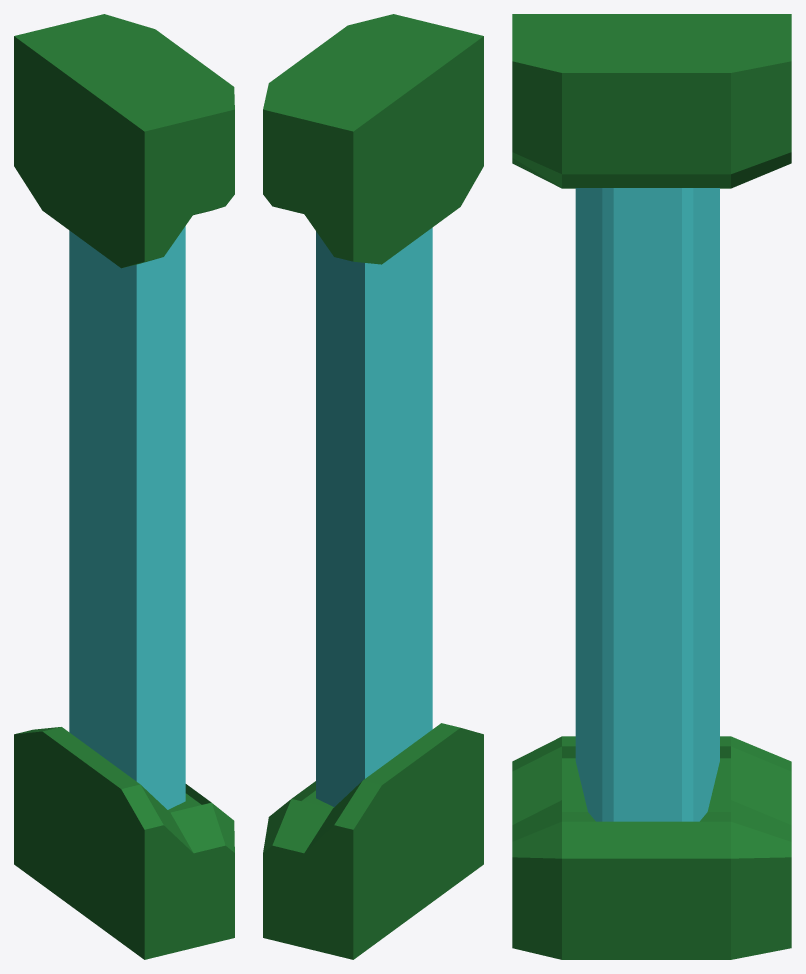
Rendered from SM_Gate_Tall.fbx.
The picture shows the model from 3 angles, left to right: view 1: azimuth 30°, elevation 25°; view 2: azimuth 150°, elevation 25°; view 3: azimuth 270°, elevation 25°; orthographic projection. The views are drawn at different scales.
Visible parts, largest first — view 1: SM_Gate_Tall:Box003, SM_Gate_Tall:Barrier_Base_Top001, SM_Gate_Tall:Barrier_Base_Btm001; view 2: SM_Gate_Tall:Box003, SM_Gate_Tall:Barrier_Base_Top001, SM_Gate_Tall:Barrier_Base_Btm001; view 3: SM_Gate_Tall:Box003, SM_Gate_Tall:Barrier_Base_Btm001, SM_Gate_Tall:Barrier_Base_Top001.
Part boxes in pixels (x1,y1,x2,y2): SM_Gate_Tall:Box003: (69, 226, 185, 809); SM_Gate_Tall:Barrier_Base_Top001: (14, 14, 234, 268); SM_Gate_Tall:Barrier_Base_Btm001: (14, 727, 234, 959); SM_Gate_Tall:Box003: (316, 227, 432, 807); SM_Gate_Tall:Barrier_Base_Top001: (263, 14, 483, 264); SM_Gate_Tall:Barrier_Base_Btm001: (263, 723, 483, 959); SM_Gate_Tall:Box003: (575, 188, 719, 821); SM_Gate_Tall:Barrier_Base_Btm001: (512, 736, 791, 959); SM_Gate_Tall:Barrier_Base_Top001: (512, 14, 791, 188).
Size of the model in its own units: 10 by 70.03 by 20.
